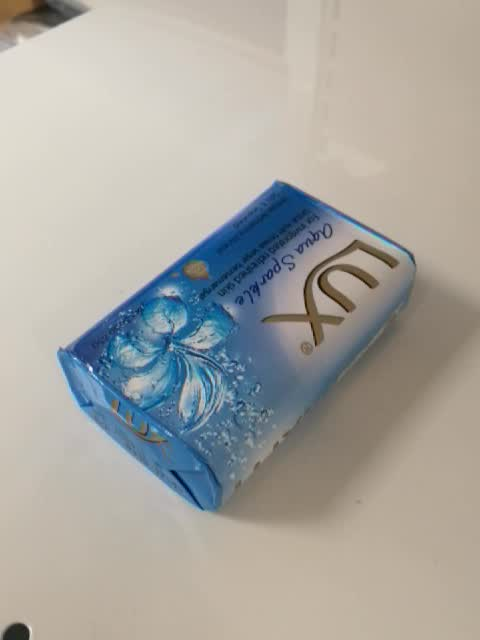soap: (56, 179, 419, 516)
